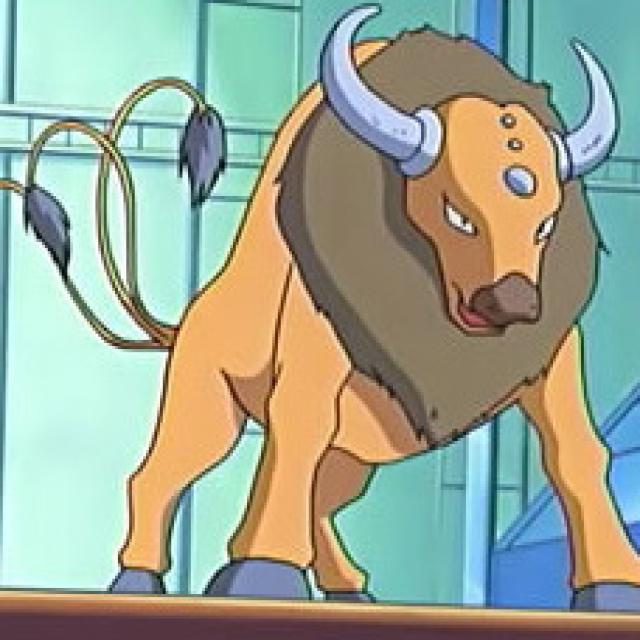Tauros: (110, 9, 639, 608)
